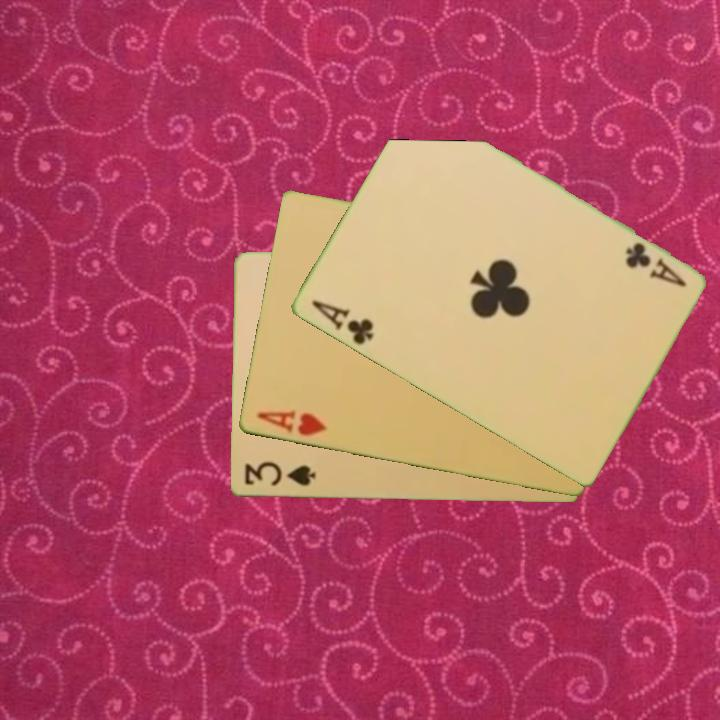3s: (240, 459, 318, 489)
Ac: (307, 296, 376, 348), (621, 238, 689, 290)
Ah: (253, 407, 329, 439)
